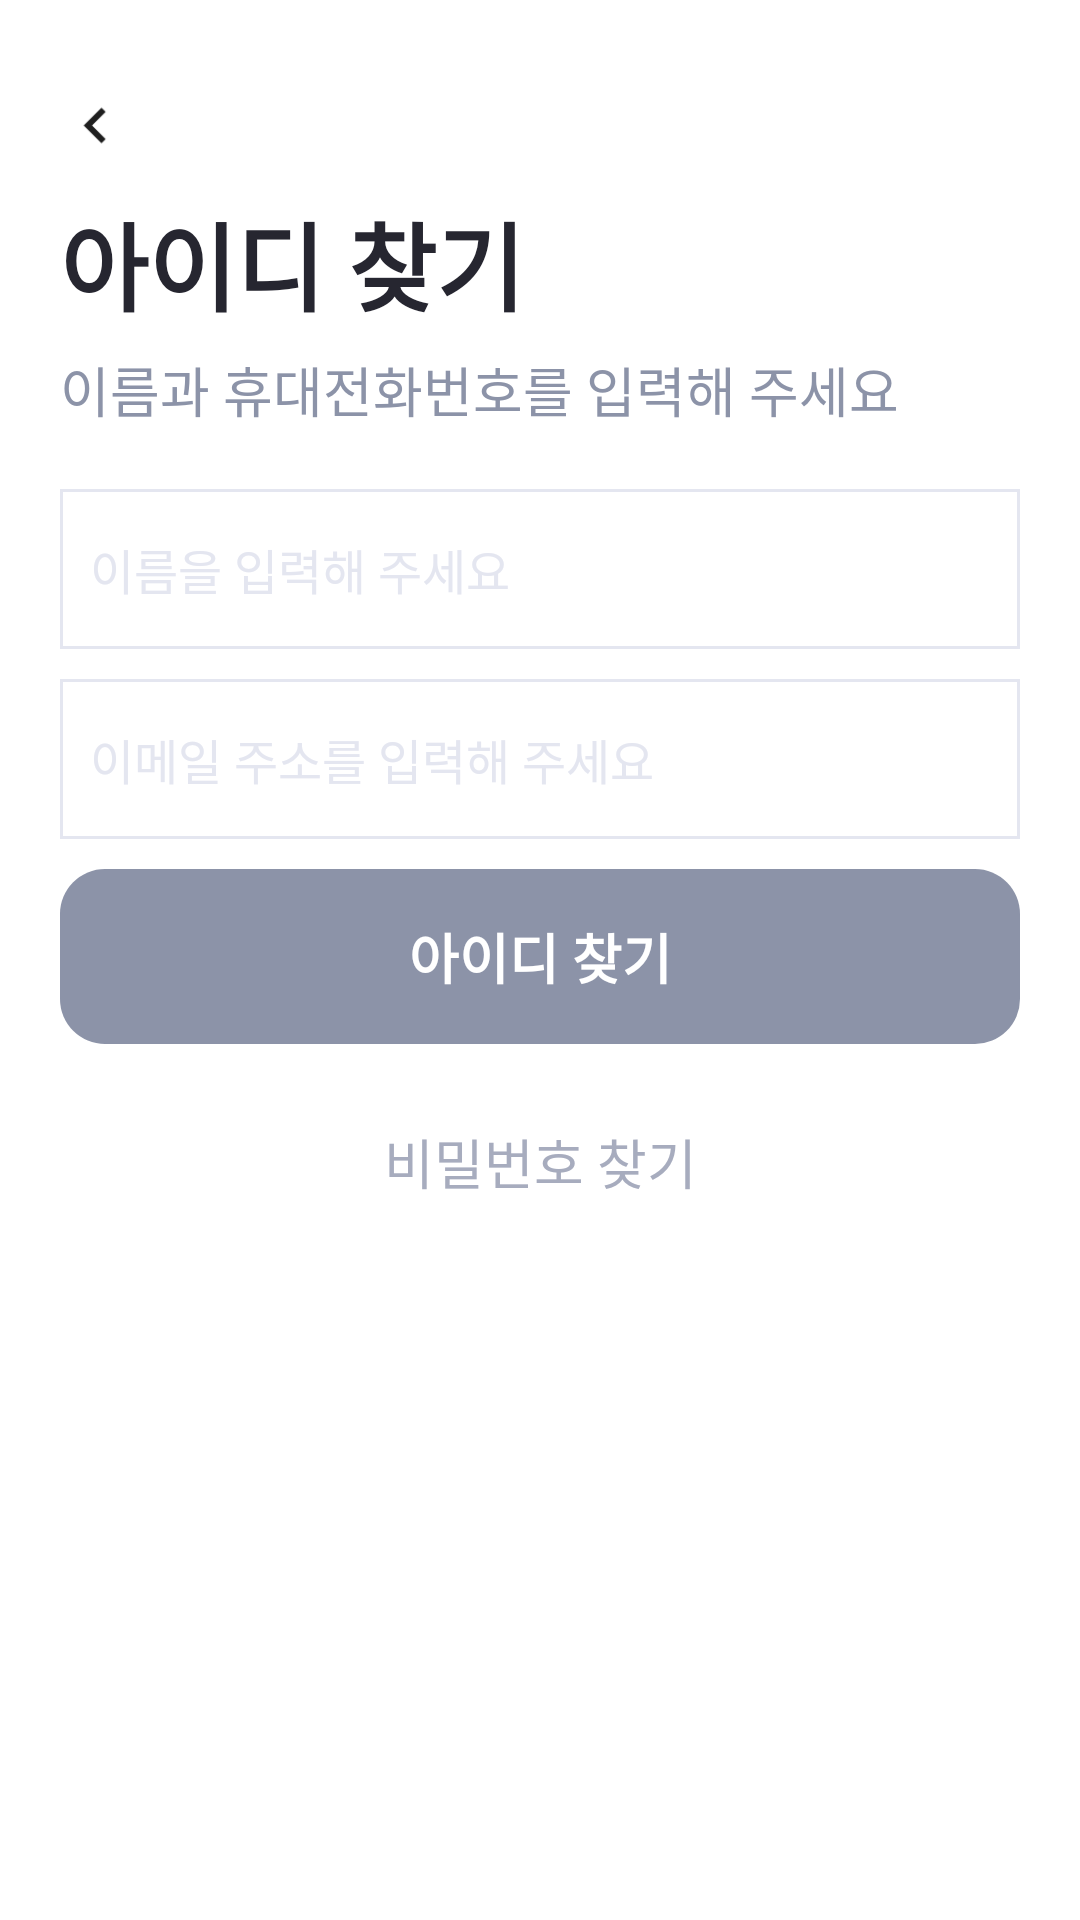

Screen size 1080 × 1920. Icon name, then its box in pixels as (x1, y1, x2, y2):
back: (83, 107, 106, 144)
